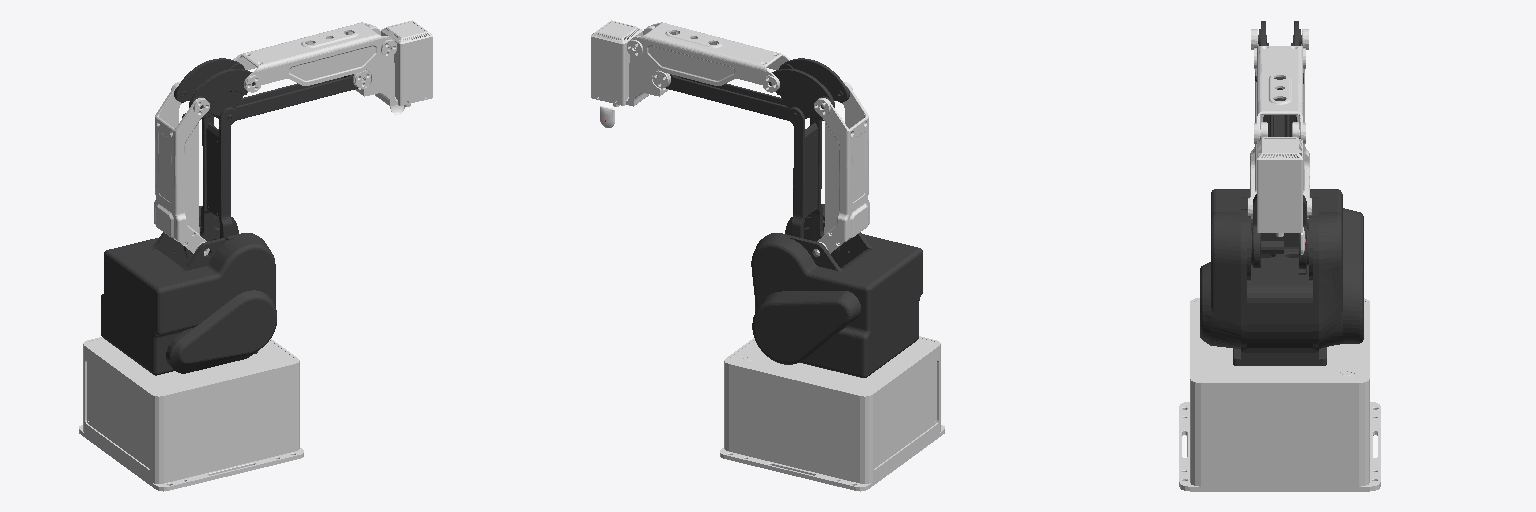
robot.urdf — mg400:
<?xml version="1.0" encoding="utf-8"?>
<!-- This URDF was automatically created by SolidWorks to URDF Exporter! Originally created by [author] ([email redacted]) 
     Commit Version: 1.6.0-1-g15f4949  Build Version: 1.6.7594.29634
     For more information, please see http://wiki.ros.org/sw_urdf_exporter -->
<robot name="mg400">
  <material name="TransparentRed">
    <color rgba="0.9 0 0.2 0.5"/>
  </material>
  <!-- Colors -->
  <material name="DarkGrey">
    <color rgba="0.3 0.3 0.3 1.0"/>
  </material>
  <material name="Grey">
    <color rgba="0.4 0.4 0.4 1.0"/>
  </material>
  <material name="Orange">
    <color rgba="1.0 0.423529411765 0.0392156862745 1.0"/>
  </material>
  <material name="Blue">
    <color rgba="0 0.1 1.0 1.0"/>
  </material>
  <material name="LightGrey">
    <color rgba="0.9 0.9 0.9 1.0"/>
  </material>
  <material name="Red">
    <color rgba="0.9 0 0.2 1.0"/>
  </material>
  <material name="TransparentRed">
    <color rgba="0.9 0 0.2 0.5"/>
  </material>
  <material name="Green">
    <color rgba="0 0.9 0.5 1.0"/>
  </material>
  <material name="Yellow">
    <color rgba="0.7 0.7 0 1.0"/>
  </material>
  <material name="LightBlue">
    <color rgba="0. 0.3 1.0 1.0"/>
  </material>
  <material name="Black">
    <color rgba="0.05 0.05 0.05 1.0"/>
  </material>
  <material name="White">
    <color rgba="1.0 1.0 1.0 1.0" />
  </material>

  
    <link name="base_link">
        <inertial>
            <origin xyz="0.000600637001378879 -2.53487071137343E-07 0.0560927888040551" rpy="0 0 0"/>
            <mass value="3.62164811695094"/>
            <inertia
                    ixx="0.0126582175296405"
                    ixy="6.66832041405407E-08"
                    ixz="-3.52548281362717E-06"
                    iyy="0.0145891535260188"
                    iyz="5.15901657460475E-08"
                    izz="0.0195045116656827"/>
        </inertial>
        <visual>
            <origin xyz="0 0 0" rpy="0 0 0"/>
            <geometry>
                <mesh filename="package://mg400/meshes/base_link.STL"/>
            </geometry>
            <material name="LightGrey"/>

        </visual>
        <collision>
            <origin xyz="0 0 0" rpy="0 0 0"/>
            <geometry>
                <mesh filename="package://mg400/meshes/base_link.STL"/>
            </geometry>
        </collision>
    </link>

    <link name="link1">
        <inertial>
            <origin xyz="-0.0046209286967387 -6.88107982318643E-05 0.0709919358465827" rpy="0 0 0"/>
            <mass value="1.77056222753813"/>
            <inertia
                    ixx="0.00605885293080088"
                    ixy="0.000156081820035162"
                    ixz="-0.00021785654850453"
                    iyy="0.00579381982249127"
                    iyz="6.20876898015621E-05"
                    izz="0.00741058257251941"/>
        </inertial>
        <visual>
            <origin xyz="0 0 0" rpy="0 0 0"/>
            <geometry>
                <mesh filename="package://mg400/meshes/link1.STL"/>
            </geometry>
            <material name="DarkGrey"/>
        </visual>
        <collision>
            <origin xyz="0 0 0" rpy="0 0 0"/>
            <geometry>
                <mesh filename="package://mg400/meshes/link1.STL"/>
            </geometry>
        </collision>
    </link>

    <joint name="j1" type="revolute">
        <origin xyz="-0.00500000000000002 0 0.109" rpy="0 0 0"/>
        <parent link="base_link"/>
        <child link="link1"/>
        <axis xyz="0 0 1"/>
        <limit lower="-3.14" upper="3.14" effort="0" velocity="0"/>
    </joint>

    <link name="link2_1">
        <inertial>
            <origin xyz="-0.00321788524756698 0.0352926570826593 0.0596131328734945" rpy="0 0 0"/>
            <mass value="0.0866115884541459"/>
            <inertia
                    ixx="0.000338551627157209"
                    ixy="-2.78858228577314E-09"
                    ixz="1.05212346076681E-05"
                    iyy="0.000307789653713489"
                    iyz="-1.36109590152488E-06"
                    izz="3.89949940178023E-05"/>
        </inertial>
        <visual>
            <origin xyz="0 0 0" rpy="0 0 0"/>
            <geometry>
                <mesh filename="package://mg400/meshes/link2_1.STL"/>
            </geometry>
            <material name="DarkGrey"/>
        </visual>
        <collision>
            <origin xyz="0 0 0" rpy="0 0 0"/>
            <geometry>
                <mesh filename="package://mg400/meshes/link2_1.STL"/>
            </geometry>
        </collision>
    </link>

    <joint name="j2_1" type="revolute">
        <origin xyz="0.0435007595118091 -0.0357748756218899 0.118995682641123" rpy="0 0 0"/>
        <parent link="link1"/>
        <child link="link2_1"/>
        <axis xyz="0 1 0"/>
        <limit lower="-3.14" upper="3.14" effort="0" velocity="0"/>
    </joint>

    <link name="link3_1">
        <inertial>
            <origin xyz="0.0821679417596488 0.000113044685842874 -0.00333758753063973" rpy="0 0 0"/>
            <mass value="0.0375214831045061"/>
            <inertia
                    ixx="2.54761091812684E-06"
                    ixy="3.73102654491378E-07"
                    ixz="-2.02625705871199E-06"
                    iyy="0.000164234314177935"
                    iyz="-1.44731096825347E-08"
                    izz="0.000164331500854172"/>
        </inertial>
        <visual>
            <origin xyz="0 0 0" rpy="0 0 0"/>
            <geometry>
                <mesh filename="package://mg400/meshes/link3_1.STL"/>
            </geometry>
            <material name="DarkGrey"/>
        </visual>
        <collision>
            <origin xyz="0 0 0" rpy="0 0 0"/>
            <geometry>
                <mesh filename="package://mg400/meshes/link3_1.STL"/>
            </geometry>
        </collision>
    </link>

    <joint name="j3_1" type="revolute">
        <origin xyz="-0.0010512570171516 0.0357748756218898 0.175001164344716" rpy="0 0 0"/>
        <parent link="link2_1"/>
        <child link="link3_1"/>
        <axis xyz="0 1 0"/>
        <limit lower="-3.14" upper="3.14" effort="0" velocity="0"/>
    </joint>

    <link name="link4_1">
        <inertial>
            <origin xyz="0.0387878182928232 0.0170848333998282 -0.0024610990490942" rpy="0 0 0"/>
            <mass value="0.0628979533925801"/>
            <inertia
                    ixx="4.78483605712844E-05"
                    ixy="1.42081909356751E-07"
                    ixz="8.32917079044309E-06"
                    iyy="5.42362047732042E-05"
                    iyz="-2.90608446019989E-08"
                    izz="3.36120409842199E-05"/>
        </inertial>
        <visual>
            <origin xyz="0 0 0" rpy="0 0 0"/>
            <geometry>
                <mesh filename="package://mg400/meshes/link4_1.STL"/>
            </geometry>
            <material name="LightGrey"/>
        </visual>
        <collision>
            <origin xyz="0 0 0" rpy="0 0 0"/>
            <geometry>
                <mesh filename="package://mg400/meshes/link4_1.STL"/>
            </geometry>
        </collision>
    </link>

    <joint name="j4_1" type="revolute">
        <origin xyz="0.174969784055705 -0.0170000000000335 0.00325187137614585" rpy="0 0 0"/>
        <parent link="link3_1"/>
        <child link="link4_1"/>
        <axis xyz="0 1 0"/>
        <limit lower="-3.14" upper="3.14" effort="0" velocity="0"/>
    </joint>

    <link name="link5">
        <inertial>
            <origin xyz="4.24246458685662E-07 3.08507851181768E-14 -0.0349688816440933" rpy="0 0 0"/>
            <mass value="0.0965276919819365"/>
            <inertia
                    ixx="4.98589992160928E-05"
                    ixy="-1.534865545378E-12"
                    ixz="3.46424449605658E-10"
                    iyy="4.98589881725446E-05"
                    iyz="-5.64890953414983E-17"
                    izz="2.130463008359E-05"/>
        </inertial>
        <visual>
            <origin xyz="0 0 0" rpy="0 0 0"/>
            <geometry>
                <mesh filename="package://mg400/meshes/link5.STL"/>
            </geometry>
            <material name="LightGrey"/>
        </visual>
        <collision>
            <origin xyz="0 0 0" rpy="0 0 0"/>
            <geometry>
                <mesh filename="package://mg400/meshes/link5.STL"/>
            </geometry>
        </collision>
    </link>

    <joint name="j5" type="revolute">
        <origin xyz="0.0659996239003897 0.0170000000000371 0.031000800715573" rpy="0 0 0"/>
        <parent link="link4_1"/>
        <child link="link5"/>
        <axis xyz="-1.19408295462994E-05 0 0.999999999928708"/>
        <limit lower="-3.14" upper="3.14" effort="0" velocity="0"/>
    </joint>

    <link name="link2_2">
        <inertial>
            <origin xyz="-0.0201111131723385 0.0304999635268521 0.073632809340276" rpy="0 0 0"/>
            <mass value="0.0662546292985346"/>
            <inertia
                    ixx="0.000218973873589181"
                    ixy="3.0147933007673E-10"
                    ixz="2.51402553227571E-06"
                    iyy="0.000200510070261609"
                    iyz="-1.41837669904595E-09"
                    izz="3.74316777806776E-05"/>
        </inertial>
        <visual>
            <origin xyz="0 0 0" rpy="0 0 0"/>
            <geometry>
                <mesh filename="package://mg400/meshes/link2_2.STL"/>
            </geometry>
            <material name="LightGrey"/>
        </visual>
        <collision>
            <origin xyz="0 0 0" rpy="0 0 0"/>
            <geometry>
                <mesh filename="package://mg400/meshes/link2_2.STL"/>
            </geometry>
        </collision>
    </link>

    <joint name="j2_2" type="revolute">
        <origin xyz="0.00452885682964267 -0.0305 0.141500000000001" rpy="0 0 0"/>
        <parent link="link1"/>
        <child link="link2_2"/>
        <axis xyz="0 1 0"/>
        <limit lower="-3.14" upper="3.14" effort="0" velocity="0"/>
    </joint>

    <link name="link3_2">
        <inertial>
            <origin xyz="0.0338566736074436 0.0240208873857428 0.00452229895926692" rpy="0 0 0"/>
            <mass value="0.0366692789294813"/>
            <inertia
                    ixx="7.24011830695354E-06"
                    ixy="7.93542746250724E-10"
                    ixz="-1.69163254472566E-06"
                    iyy="2.34967008246727E-05"
                    iyz="4.55507111386579E-10"
                    izz="1.66831643179488E-05"/>
        </inertial>
        <visual>
            <origin xyz="0 0 0" rpy="0 0 0"/>
            <geometry>
                <mesh filename="package://mg400/meshes/link3_2.STL"/>
            </geometry>
            <material name="DarkGrey"/>
        </visual>
        <collision>
            <origin xyz="0 0 0" rpy="0 0 0"/>
            <geometry>
                <mesh filename="package://mg400/meshes/link3_2.STL"/>
            </geometry>
        </collision>
    </link>

    <joint name="j3_2" type="revolute">
        <origin xyz="-0.00105049750546494 0.00649999999999986 0.174996846985851" rpy="0 0 0"/>
        <parent link="link2_2"/>
        <child link="link3_2"/>
        <axis xyz="0 1 0"/>
        <limit lower="-3.14" upper="3.14" effort="0" velocity="0"/>
    </joint>

    <link name="link4_2">
        <inertial>
            <origin xyz="0.0876391591012518 0.023499867452275 0.00831492252441945" rpy="0 0 0"/>
            <mass value="0.0453569016333092"/>
            <inertia
                    ixx="2.00037596001325E-05"
                    ixy="3.34474706250153E-09"
                    ixz="2.17594982354756E-07"
                    iyy="0.000132049841023893"
                    iyz="5.36978669669685E-10"
                    izz="0.000141813978894428"/>
        </inertial>
        <visual>
            <origin xyz="0 0 0" rpy="0 0 0"/>
            <geometry>
                <mesh filename="package://mg400/meshes/link4_2.STL"/>
            </geometry>
            <material name="LightGrey"/>
        </visual>
        <collision>
            <origin xyz="0 0 0" rpy="0 0 0"/>
            <geometry>
                <mesh filename="package://mg400/meshes/link4_2.STL"/>
            </geometry>
        </collision>
    </link>

    <joint name="j4_2" type="revolute">
        <origin xyz="0.0678965856063864 0.000500000000000073 0.0119719999403219" rpy="0 0 0"/>
        <parent link="link3_2"/>
        <child link="link4_2"/>
        <axis xyz="0 1 0"/>
        <limit lower="-3.14" upper="3.14" effort="0" velocity="0"/>
    </joint>

  <!--dummy joint-->
  <joint name="ee_joint" type="fixed">
    <parent link="link5"/>
    <child link="ee_link"/>
    <origin xyz="0 0 -0.065" rpy="0 0 0"/>
  </joint>

  <link name="ee_link">
    <visual>
      <origin rpy="0 0 0" xyz="0 0 0"/>
      <geometry>
        <sphere radius="0.005"/>
      </geometry>
        <material name="Red"/>
    </visual>
    <collision>
      <geometry>
        <sphere radius="0.001"/>
      </geometry>
      <origin rpy="0 0 0" xyz="0.0 0 0"/>
    </collision>
    <inertial>
      <mass value="0.0"/>
      <origin rpy="-3.14 0.0 1.57" xyz="0.0 0.0 0.0"/>
      <inertia ixx="0.001" ixy="0.0" ixz="0.0" iyy="0.001" iyz="0.0" izz="0.001"/>
    </inertial>
  </link>

      <!-- TacTip -->
  <link
    name="digit_body_link">
    <inertial>
      <origin
        xyz="0.00443338071044421 -0.0140914049333968 4.96453152977634E-09+0.02"
        rpy="0 0 0" />
      <mass
        value="0.0077837104153161" />
      <inertia
        ixx="7.77176839696665E-07"
        ixy="-5.52554519832781E-09"
        ixz="-2.21347841658254E-13"
        iyy="1.5788930001559E-06"
        iyz="-8.96409493368731E-14"
        izz="1.05613167218354E-06" />
    </inertial>
    <visual>
      <origin
        xyz="0 0 0.02"
        rpy="0 0 0" />
      <geometry>
        <mesh
          filename="../digit/standard_digit/digit_asmb/meshes/digit_body.STL" />
      </geometry>
      <material
        name="digit_body">
        <color
          rgba="0.0 0.0 0.0 1" />
      </material>
    </visual>
    <collision>
      <origin
        xyz="0 0 0.02"
        rpy="0 0 0" />
      <geometry>
        <mesh
          filename="../digit/standard_digit/digit_asmb/meshes/digit_body.STL" />
      </geometry>
    </collision>
  </link>


      <joint name="digit_ee_joint" type="fixed">
        <parent link="ee_link"/>
        <child link="digit_body_link"/>
        <origin rpy="3.14 -1.57 1.57" xyz="0.0 0.0 -0.03"/>
      </joint>


  <link
    name="digit_tip_link">
    <inertial>
      <origin
        xyz="-2.15568578500849E-07 0.00554133274527847 -0.00576051345741577-0.02"
        rpy="0 0 0" />
      <mass
        value="0.00130411151086353" />
      <inertia
        ixx="5.48284140746448E-08"
        ixy="-4.02703926962539E-12"
        ixz="-5.29135712007007E-14"
        iyy="3.03790231207661E-08"
        iyz="-1.56642204167579E-10"
        izz="8.26200689636922E-08" />
    </inertial>
    <visual>
      <origin
        xyz="0 0 -0.02"
        rpy="0 0 0" />
      <geometry>
        <mesh
          filename="../digit/standard_digit/digit_asmb_hollow/meshes/digit_core.STL" scale="1.0 1.0 1.0"/>
      </geometry>
      <material
        name="digit_skin">
        <color
          rgba="1.0 1.0 1.0 1" />
      </material>
    </visual>
    <collision>
      <origin
        xyz="0 0 -0.02"
        rpy="0 0 0" />
      <geometry>
        <mesh
          filename="../digit/standard_digit/digit_asmb/meshes/digit_core.STL" />
      </geometry>
    </collision>
  </link>

  <joint
    name="digit_tip_to_body"
    type="fixed">
    <origin
      xyz="-0.00151521951809463 -1.36251105150219E-05 -0.00415"
      rpy="-3.14159265358979 0 1.5707963267949" />
    <parent
      link="digit_body_link" />
    <child
      link="digit_tip_link" />
    <axis
      xyz="0 0 0" />
  </joint>
      <!-- TCP -->
      <link name="tcp_link">
        <visual>
          <origin rpy="0 0 0" xyz="0 0 0"/>
          <geometry>
            <sphere radius="0.001"/>
          </geometry>
           <material name="TransparentRed"/>
        </visual>
        <inertial>
          <mass value="0.0"/>
          <origin rpy="0.0 0.0 1.57" xyz="0.0 0.0 0.0"/>
          <inertia ixx="1.0" ixy="0.0" ixz="0.0" iyy="1.0" iyz="0.0" izz="1.0"/>
        </inertial>
      </link>

      <joint name="tcp_joint" type="fixed">
        <parent link="digit_body_link"/>
        <child link="tcp_link"/>
        <origin rpy="1.57 0 -1.57" xyz="0.0007 0.0 0.025"/>
        <!-- <origin rpy="0 0 0" xyz="0.00145 0.0 0.025"/> -->
        <!-- <origin rpy="0 0 0" xyz="0.0018 0.0 0.025"/> -->
      </joint>


<!-- 
  <link
    name="sq_link">
    <inertial>
      <origin
        xyz="-0.00535000000000003 0.00799999999999999 5.00000000005617E-06-0.02"
        rpy="0 0 0" />
      <mass
        value="1.59999999999993E-07" />
      <inertia
        ixx="5.33346666666645E-14"
        ixy="-1.34013559776601E-30"
        ixz="4.41903370583012E-33"
        iyy="5.33346666666645E-14"
        iyz="-3.65677197028787E-28"
        izz="1.06666666666662E-13" />
    </inertial>
    <visual>
      <origin
        xyz="0 0 -0.02"
        rpy="0 0 0" />
      <geometry>
        <mesh
          filename="../digit/standard_digit/digit_asmb_skin_with_marks/meshes/sq_link.STL" />
      </geometry>
      <material
        name="Green">
        <color
          rgba="0.9 0.9 0.9 1" />
      </material>
    </visual>
    <collision>
      <origin
        xyz="0 0 -0.02"
        rpy="0 0 0" />
      <geometry>
        <mesh
          filename="../digit/standard_digit/digit_asmb_skin_with_marks/meshes/sq_link.STL" />
      </geometry>
    </collision>
  </link>


  <joint
    name="skin_sq_joint"
    type="fixed">
    <origin
      xyz="-0.00535000000000005 0.0132650762017464 -0.00645000000000009"
      rpy="0 0 3.14159265358979" />
    <parent
      link="digit_tip_link" />
    <child
      link="sq_link" />
    <axis
      xyz="0 0 0" />
  </joint>
 -->


</robot>

--- What the picture shows (computed from the rendered views, not written in the file) ---
Views: 3 orthographic renders of the robot side by side, from view 1: azimuth 30°, elevation 25°; view 2: azimuth 150°, elevation 25°; view 3: azimuth 270°, elevation 25°.
Model mg400 with 13 links and 12 joints (8 revolute, 4 fixed), rooted at base_link, posed every joint at zero.
Links seen in each view (by area): view 1: base_link, link1, link2_2, link4_2, link4_1, link2_1, link3_2, link3_1; view 2: base_link, link1, link2_2, link4_2, link4_1, link2_1, link3_2, link3_1; view 3: base_link, link1, link4_1, link4_2, link2_1, link2_2.
Boxes of the visible links, x1,y1,x2,y2 form: base_link: (79,337,303,491); link1: (101,206,276,375); link2_2: (154,82,209,255); link4_2: (233,22,396,92); link4_1: (353,20,432,106); link2_1: (200,107,236,241); link3_2: (174,58,254,118); link3_1: (182,74,357,120); base_link: (720,336,944,491); link1: (751,204,922,377); link2_2: (814,82,869,255); link4_2: (627,22,790,92); link4_1: (591,20,670,106); link2_1: (787,107,823,241); link3_2: (769,58,849,118); link3_1: (666,74,823,120); base_link: (1179,298,1380,491); link1: (1200,189,1363,365); link4_1: (1257,122,1302,232); link4_2: (1254,46,1305,143); link2_1: (1251,73,1308,274); link2_2: (1248,29,1311,218).
Size in the robot's own frame: 0.3954 by 0.19 by 0.4597 metres.
Meshes: 11 distinct files referenced, 10 mesh visuals loaded (10 binary STL); not drawn: 1 (reference not matched to a file when rendering).